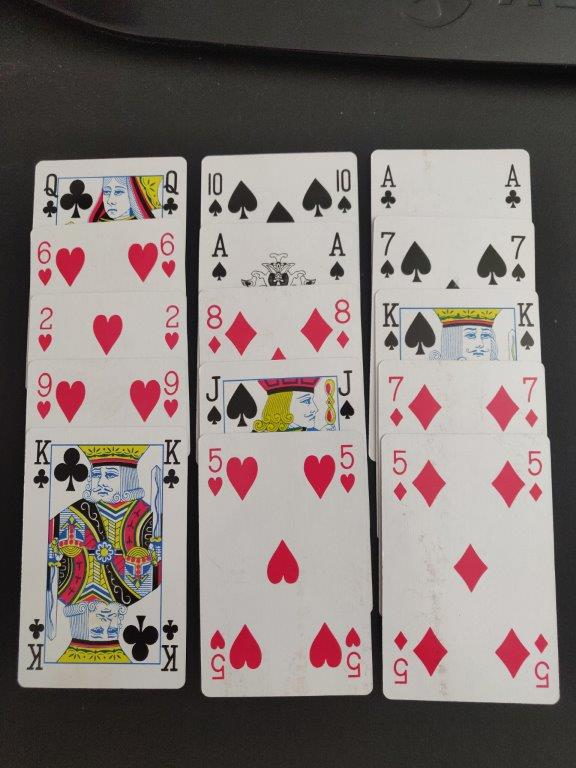10S: (203, 168, 230, 222), (332, 165, 356, 217)
2H: (159, 300, 186, 354), (35, 303, 58, 360)
5D: (523, 446, 549, 509), (389, 446, 411, 503)
5H: (334, 441, 361, 495), (203, 444, 226, 501)
6H: (157, 230, 183, 282), (35, 237, 54, 290)
7D: (518, 372, 544, 430), (383, 373, 408, 428)
7S: (376, 226, 400, 283), (507, 228, 530, 284)
8D: (330, 294, 357, 356), (204, 300, 230, 357)
9H: (29, 368, 57, 425), (161, 368, 183, 426)
AC: (499, 159, 526, 214), (376, 163, 403, 214)
AS: (207, 228, 235, 291), (325, 226, 353, 286)
JS: (334, 362, 361, 428), (201, 371, 229, 430)
KC: (28, 436, 53, 492), (160, 437, 185, 493)
KS: (376, 295, 403, 352), (514, 299, 539, 357)
QC: (157, 168, 181, 219), (37, 167, 60, 220)
